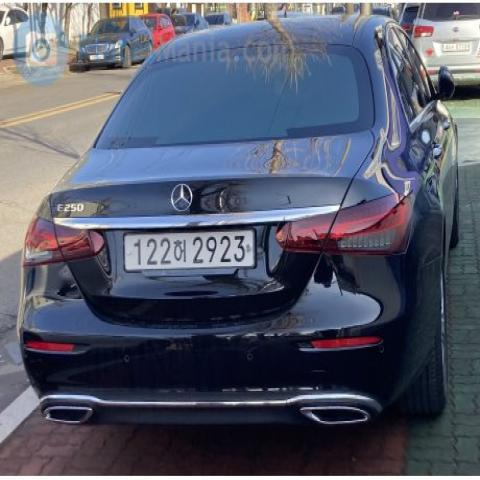LP: (115, 222, 259, 279)
